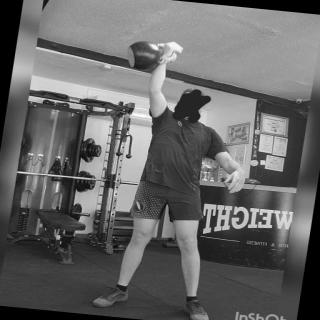kettlebell: (116, 33, 191, 78)
